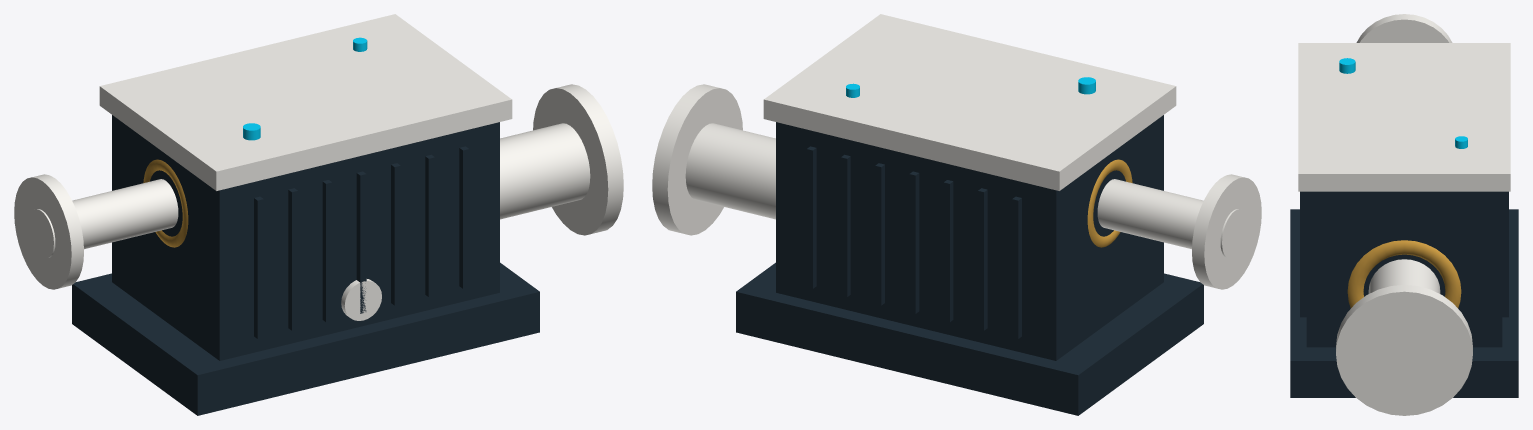
Rendered from industrial_powertrain.glb.
The picture shows the model from 3 angles, left to right: view 1: azimuth 30°, elevation 25°; view 2: azimuth 150°, elevation 25°; view 3: azimuth 270°, elevation 25°; orthographic projection. The views are drawn at different scales.
Size of the model in its own units: 3.5 by 1.5 by 1.4.
